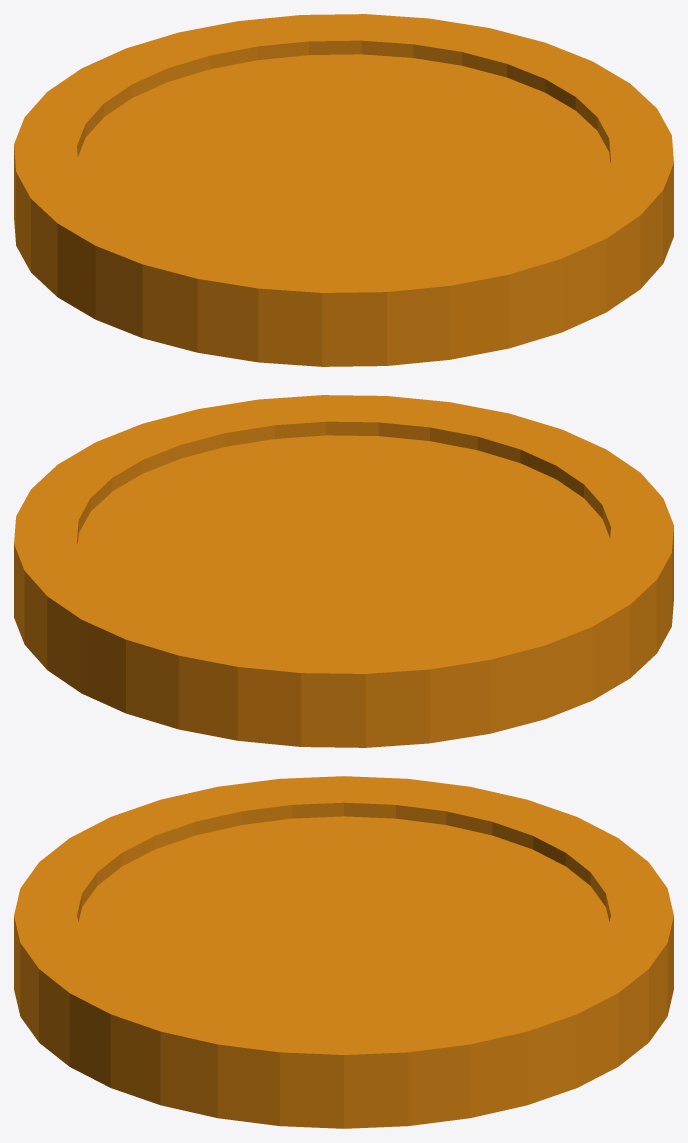
File: coin.glb
3 renders of one model, top to bottom at view 1: azimuth 30°, elevation 25°; view 2: azimuth 150°, elevation 25°; view 3: azimuth 270°, elevation 25°, orthographic.
Visible parts, largest first — view 1: Coin; view 2: Coin; view 3: Coin.
Part boxes in pixels (x1=…): Coin: x1=14, y1=14, x2=673, y2=366; Coin: x1=14, y1=395, x2=673, y2=747; Coin: x1=14, y1=776, x2=673, y2=1128.
Bounding box in the file's own units: 2 × 0.2466 × 2.
